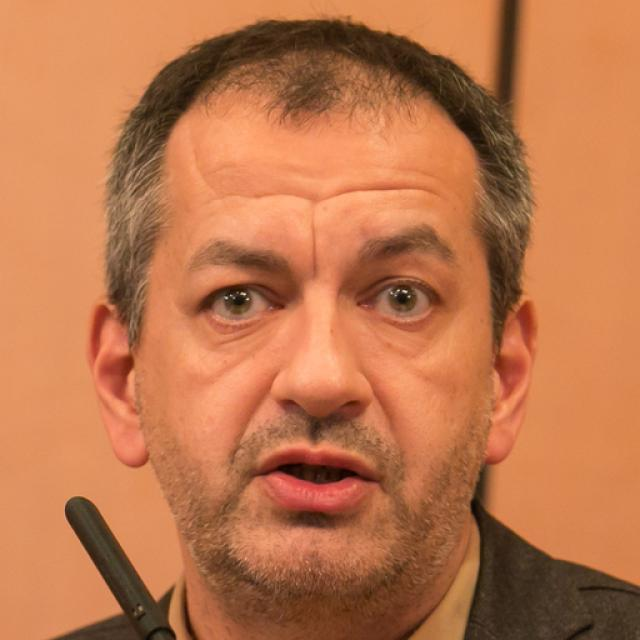surprise: (140, 76, 494, 604)
